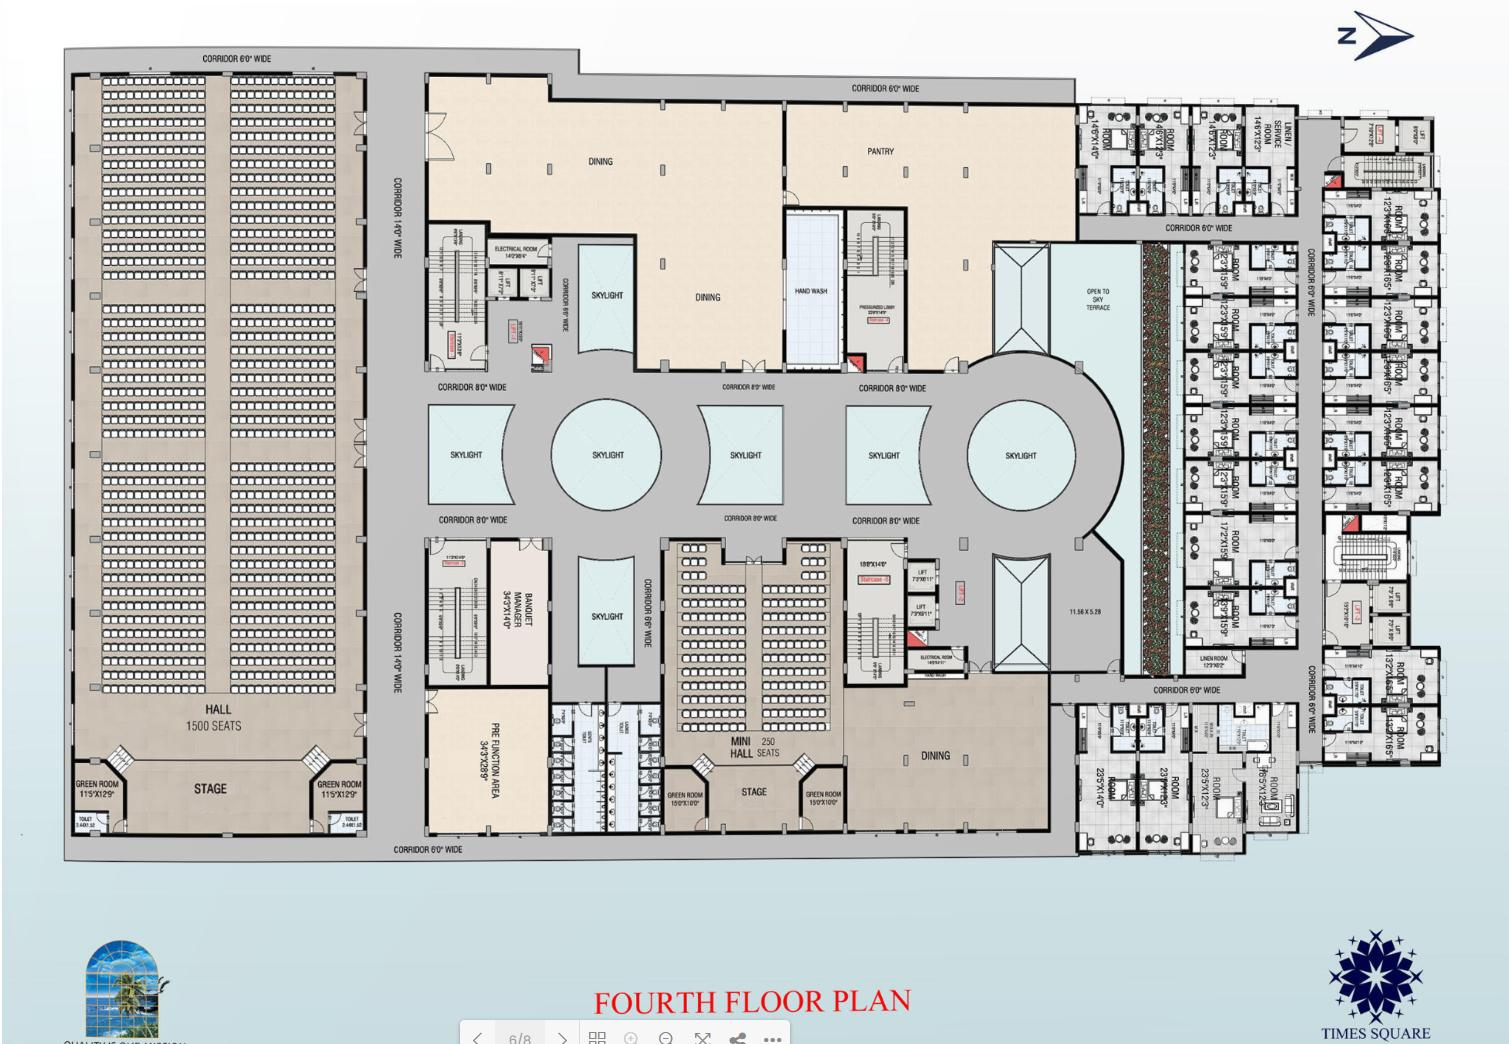room: (71, 71, 367, 842), (663, 540, 844, 832), (425, 687, 549, 834), (845, 208, 906, 373), (1076, 702, 1139, 854), (427, 538, 488, 688), (490, 538, 550, 686), (845, 540, 906, 686), (427, 221, 486, 369), (1186, 512, 1297, 586), (1137, 701, 1191, 852), (605, 702, 663, 834), (1322, 704, 1439, 765), (550, 703, 604, 834), (1244, 702, 1298, 832), (1184, 586, 1297, 648), (1323, 646, 1439, 704), (1323, 457, 1439, 513), (1323, 403, 1439, 459), (1078, 106, 1137, 215), (1323, 296, 1439, 351), (1323, 350, 1440, 404), (1184, 295, 1298, 350), (1323, 188, 1439, 242), (1324, 242, 1439, 296), (1184, 458, 1297, 512), (1184, 242, 1297, 296), (1184, 351, 1298, 404), (1184, 405, 1297, 458), (1243, 106, 1296, 216), (1137, 106, 1190, 215), (1191, 104, 1243, 215), (1193, 751, 1244, 854), (1324, 581, 1371, 648), (1342, 117, 1397, 154), (486, 235, 552, 265), (906, 648, 965, 678), (1184, 648, 1244, 677)
